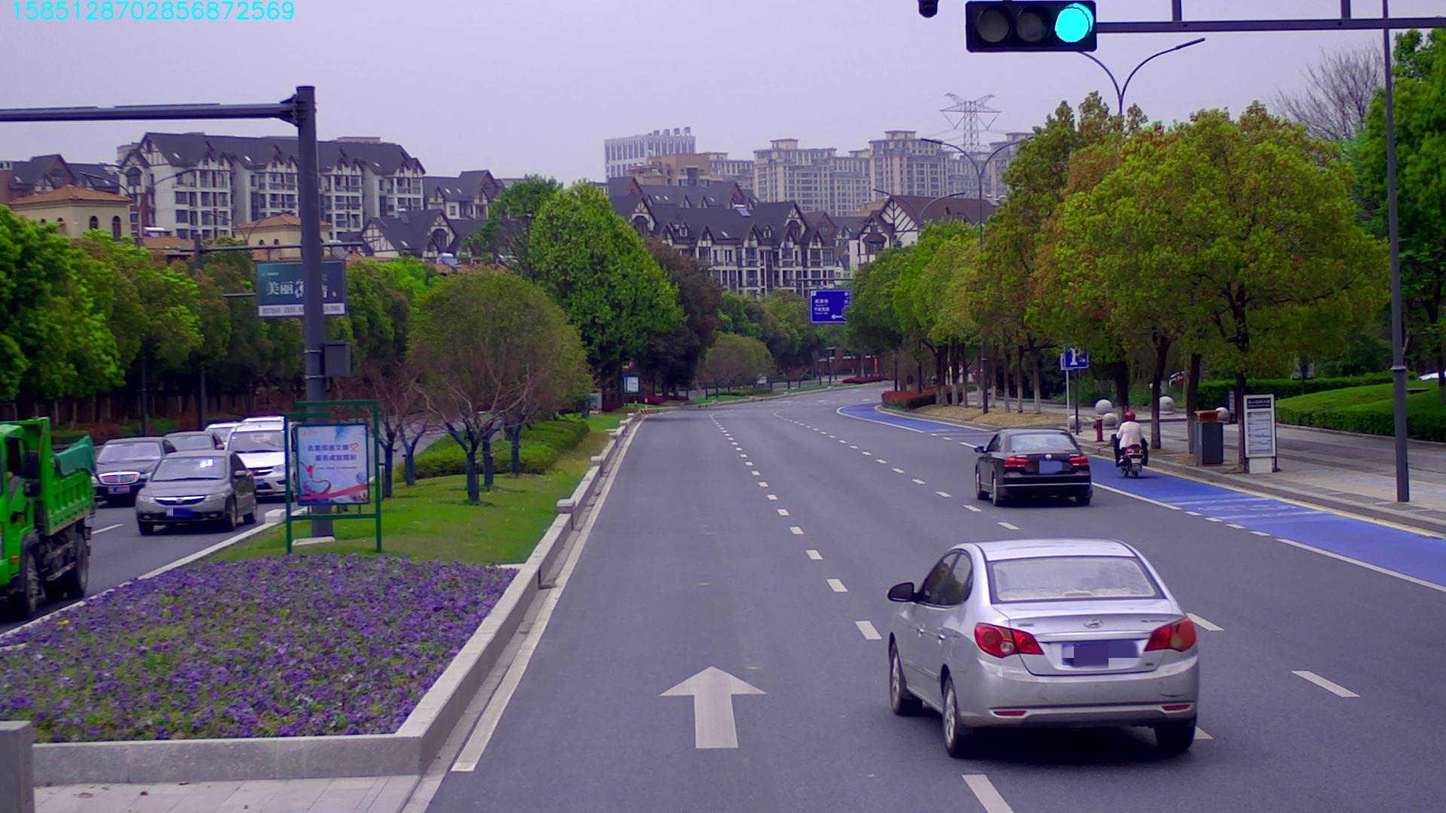green: (964, 5, 1096, 51)
